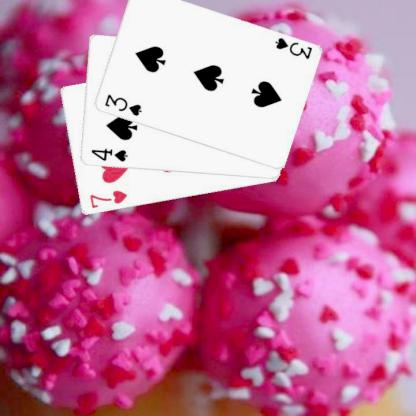3S: (272, 34, 313, 60), (102, 92, 142, 118)
4S: (89, 146, 128, 164)
7H: (87, 188, 128, 210)
